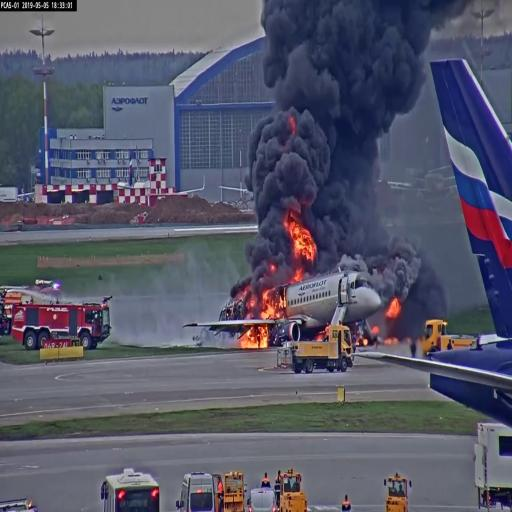smoke: (274, 0, 416, 107), (318, 96, 382, 273), (253, 115, 329, 212), (376, 241, 422, 310), (252, 210, 294, 282)
